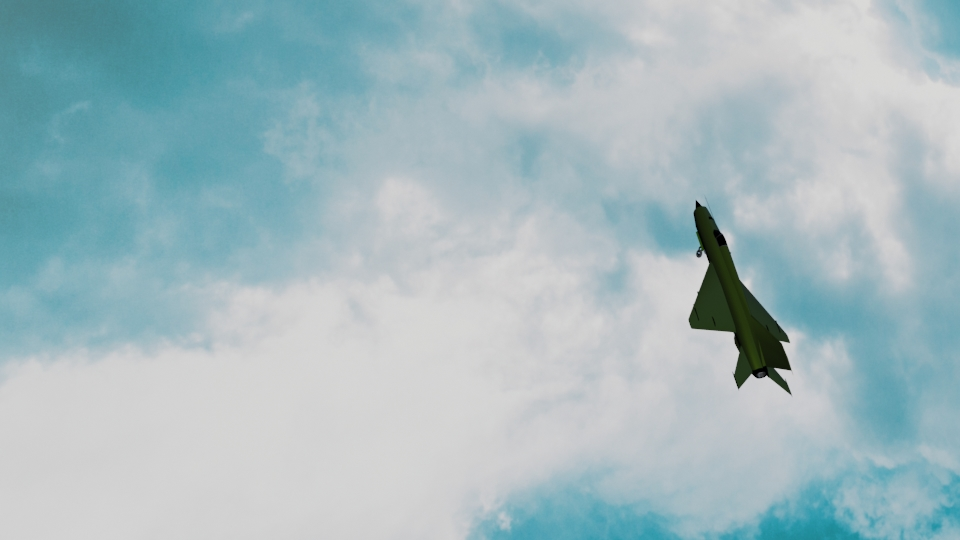plane: (685, 196, 793, 397)
